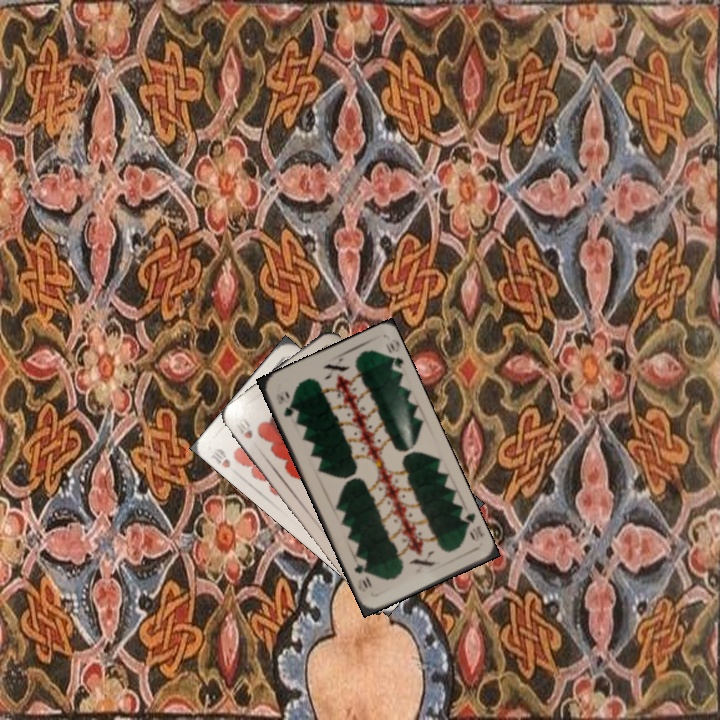G10: (455, 509, 486, 544), (276, 391, 296, 419)
H10: (206, 444, 233, 471), (233, 413, 255, 441)
